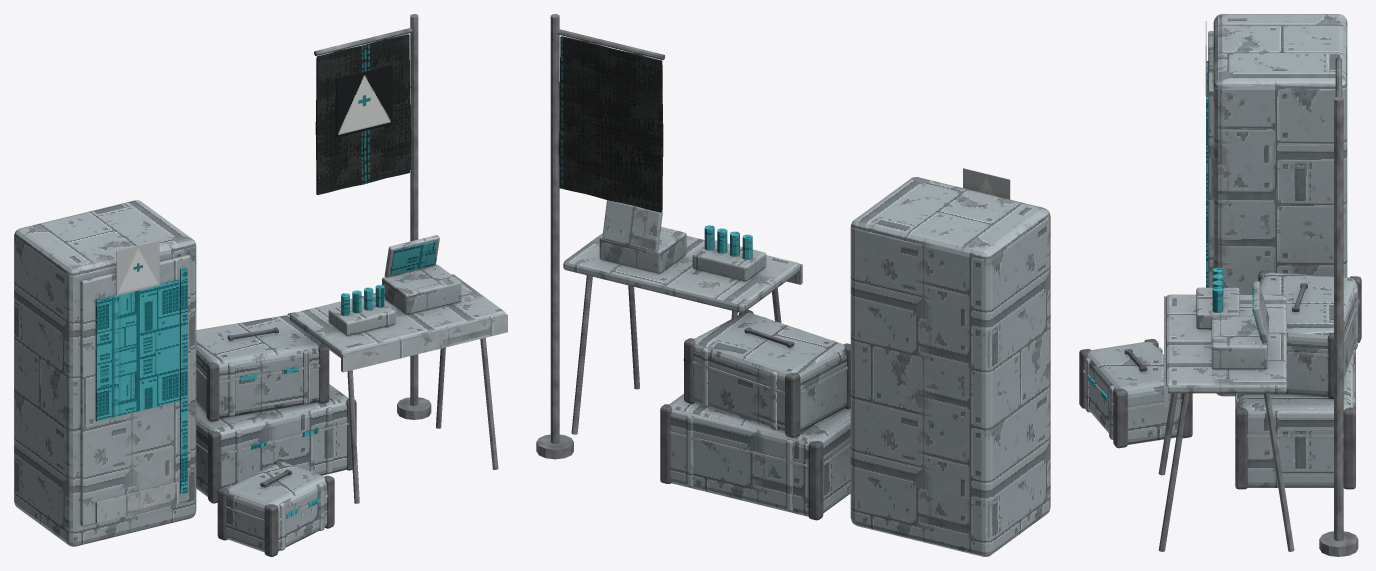
File: enc_closure_stall.glb
3 renders of one model, left to right at view 1: azimuth 30°, elevation 25°; view 2: azimuth 150°, elevation 25°; view 3: azimuth 270°, elevation 25°, orthographic. The views are drawn at different scales.
Visible parts, largest first — view 1: enc_closure_stall; view 2: enc_closure_stall; view 3: enc_closure_stall.
Part boxes in pixels (x1=…): enc_closure_stall: x1=14, y1=14, x2=507, y2=556; enc_closure_stall: x1=536, y1=14, x2=1050, y2=556; enc_closure_stall: x1=1079, y1=14, x2=1361, y2=556.
Size of the model in its own units: 2.52 by 2.3 by 1.31.
6 materials, 6 textured.
